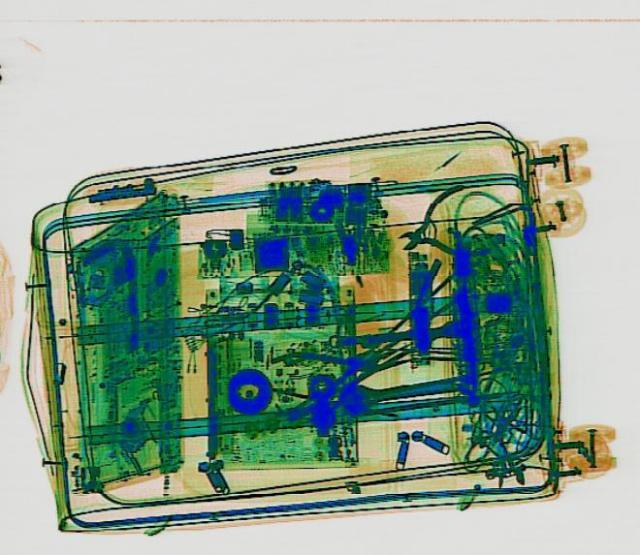Pliers: (269, 325, 413, 415), (382, 181, 494, 272)
Wrench: (338, 365, 474, 415), (324, 317, 462, 350)
